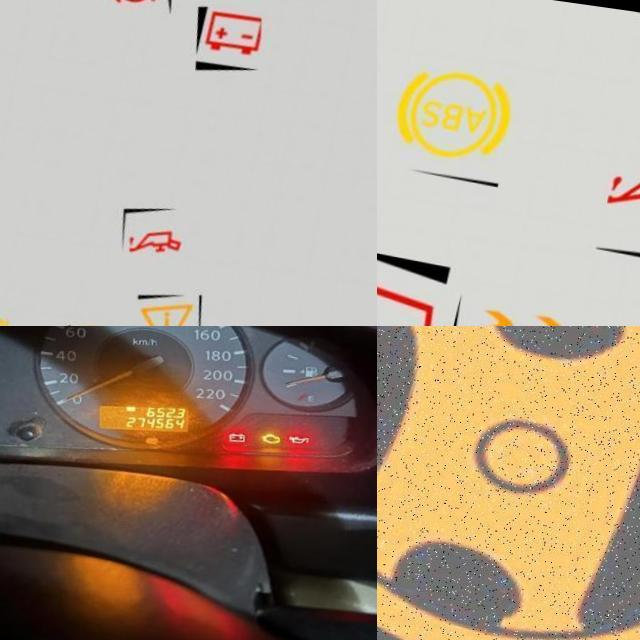Electronic Power Steering: (377, 326, 640, 640)
